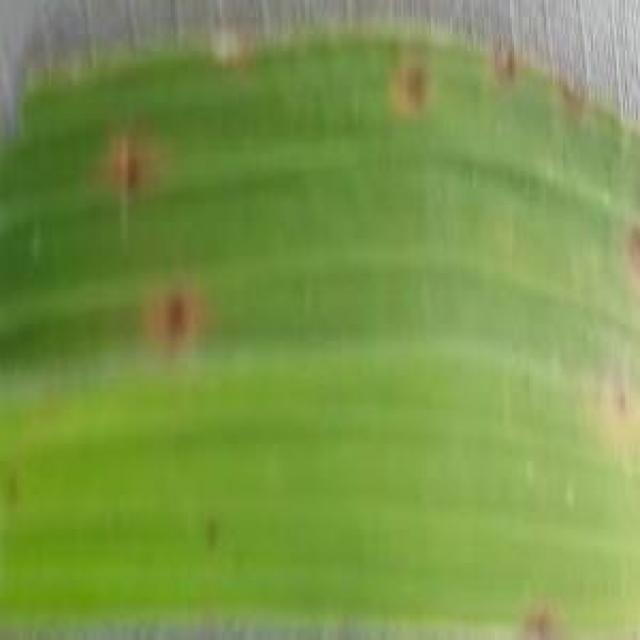brownspots: (92, 124, 168, 198), (138, 277, 200, 348), (382, 64, 442, 115), (614, 224, 640, 282), (524, 602, 562, 636), (488, 49, 518, 81)
